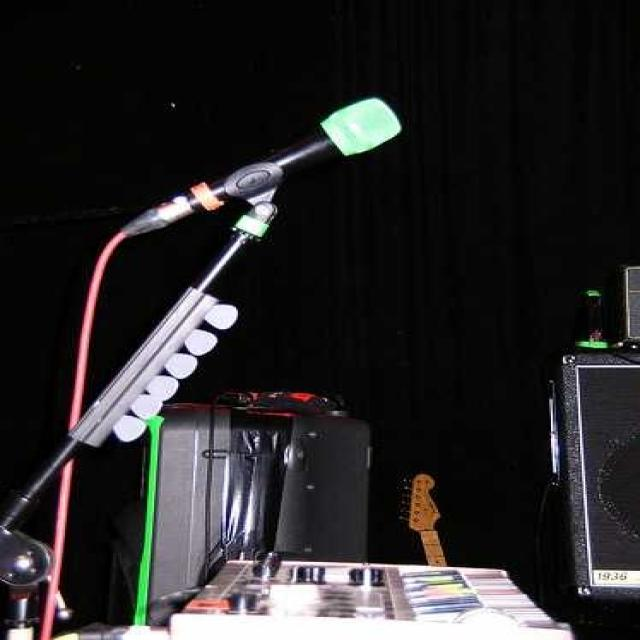microphone: (136, 98, 398, 238)
